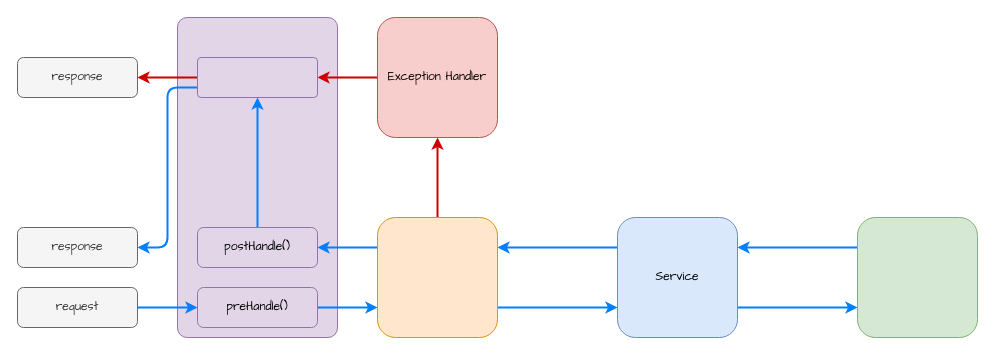
The diagram is 995 pixels wide and 355 high, and some of its shapes have lost their labels. Each missing label, with the box of its shape:
afterCompletion(): (196, 56, 318, 98)
Controller: (376, 216, 498, 338)
Interceptor: (176, 16, 338, 338)
Repository: (856, 216, 978, 338)
